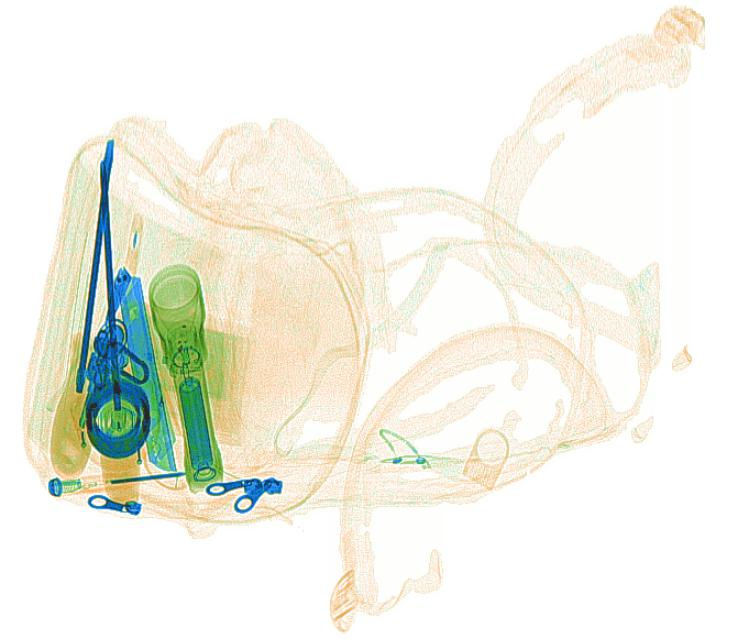battery: (177, 374, 215, 473)
knife: (115, 274, 194, 491)
